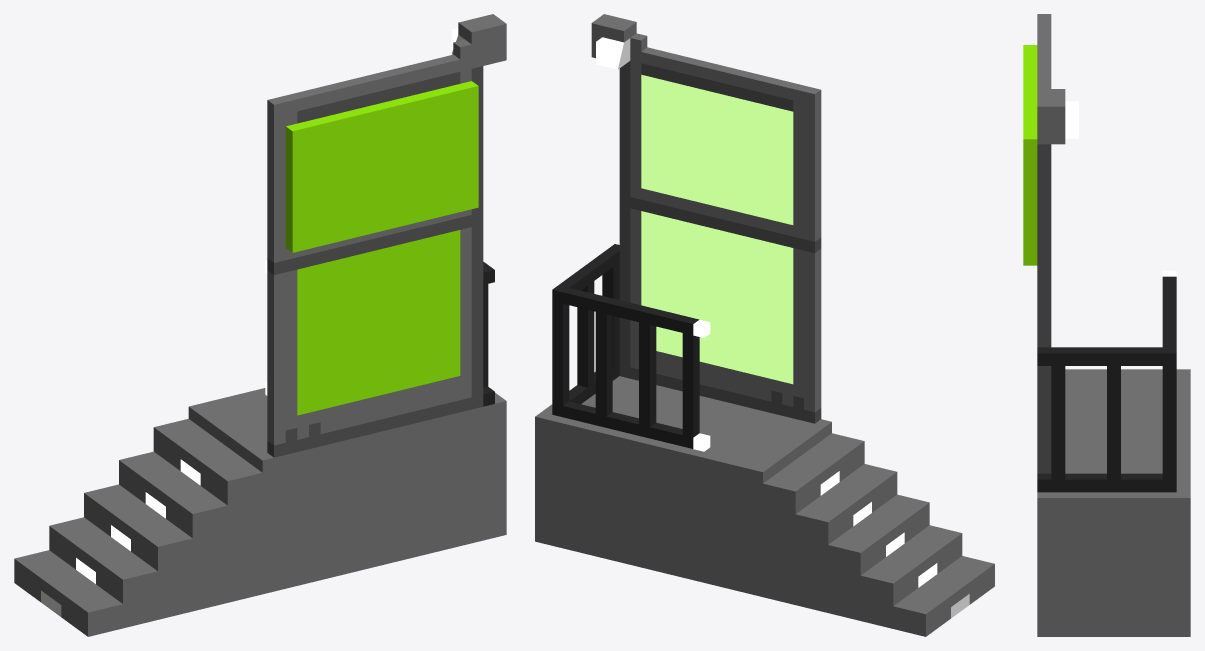
The model's file is backdoorFour.glb.
3 views of the same model, side by side, from view 1: azimuth 30°, elevation 25°; view 2: azimuth 150°, elevation 25°; view 3: azimuth 270°, elevation 25° (orthographic). The views are drawn at different scales.
Parts seen in each view (by area): view 1: ObjObject; view 2: ObjObject; view 3: ObjObject.
Boxes of the visible parts, x1,y1,x2,y2 form: ObjObject: (14, 14, 506, 636); ObjObject: (535, 14, 994, 636); ObjObject: (1023, 14, 1190, 636).
Bounding box in the file's own units: 3.6 × 4.2 × 1.2.
3 materials, 1 textured.
